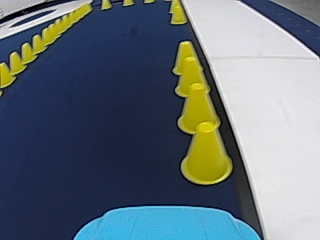cone: (179, 122, 232, 184), (178, 82, 220, 132), (171, 40, 199, 78), (168, 0, 186, 24), (8, 50, 24, 74), (19, 42, 34, 63), (0, 62, 13, 86), (30, 33, 43, 53), (41, 26, 53, 45), (101, 0, 111, 9)
